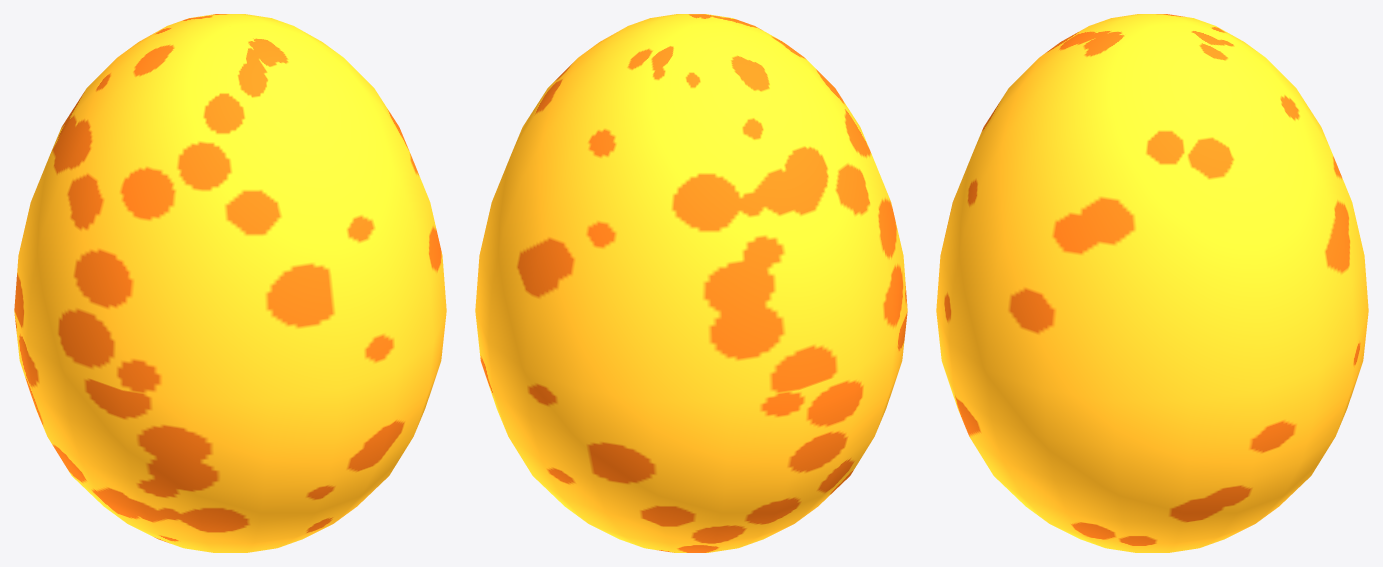
The model's file is egg_legendary.glb.
3 views of the same model, side by side, from view 1: azimuth 30°, elevation 25°; view 2: azimuth 150°, elevation 25°; view 3: azimuth 270°, elevation 25° (orthographic).
Visible parts, largest first — view 1: top, bottom; view 2: top, bottom; view 3: top, bottom.
Part boxes in pixels (x1,y1,x2,y2): top: (14,14,446,400); bottom: (14,311,446,552); top: (475,14,907,400); bottom: (475,311,907,552); top: (936,14,1368,400); bottom: (936,311,1368,552).
Bounding box in the file's own units: 0.3939 × 0.52 × 0.4.
1 material, 1 textured.
